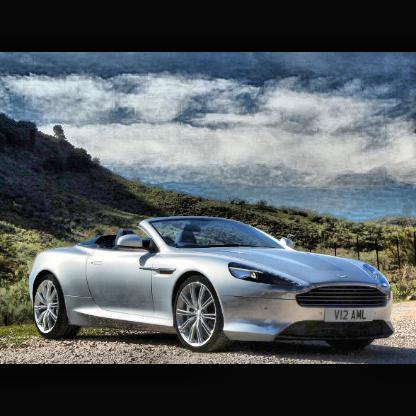Aston Martin Virage Convertible 2012: (27, 215, 399, 356)
